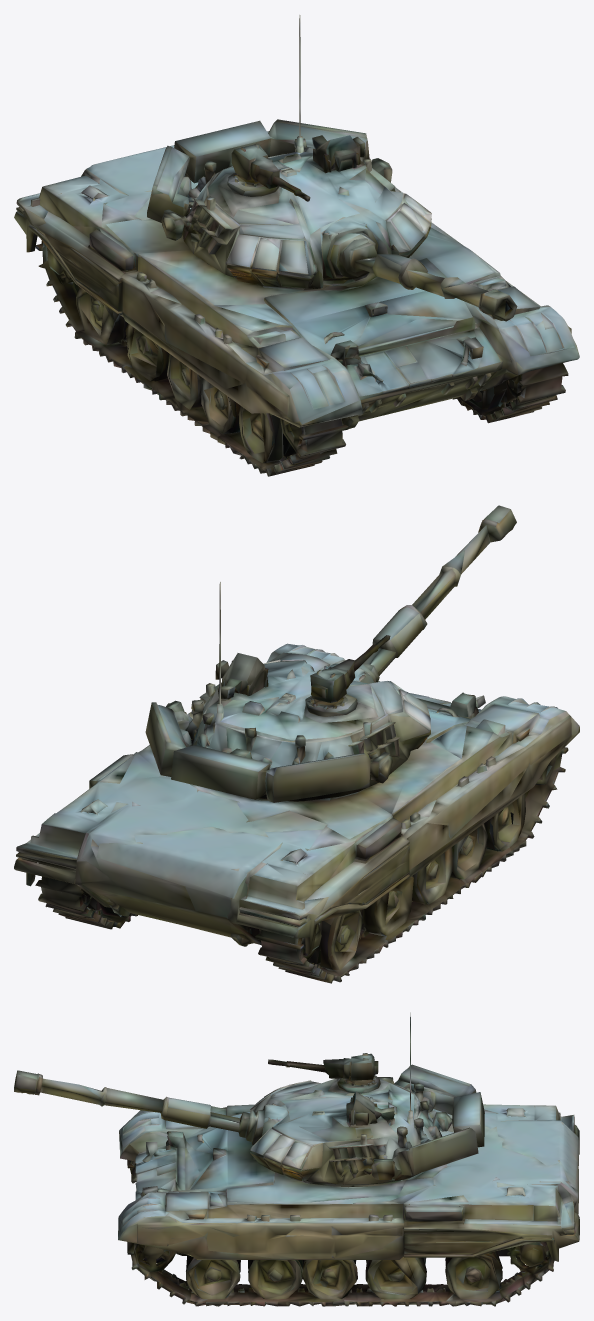
File: t90_opt.glb
3 renders of one model, top to bottom at view 1: azimuth 30°, elevation 25°; view 2: azimuth 150°, elevation 25°; view 3: azimuth 270°, elevation 25°, orthographic. The views are drawn at different scales.
Visible parts, largest first — view 1: node_0; view 2: node_0; view 3: node_0.
Boxes of the visible parts, x1,y1,x2,y2 form: node_0: (14,15,579,476); node_0: (14,505,579,983); node_0: (14,1012,579,1306).
Bounding box in the file's own units: 0.5109 × 0.5371 × 1.07.
Materials: 1 (1 with a texture image).
